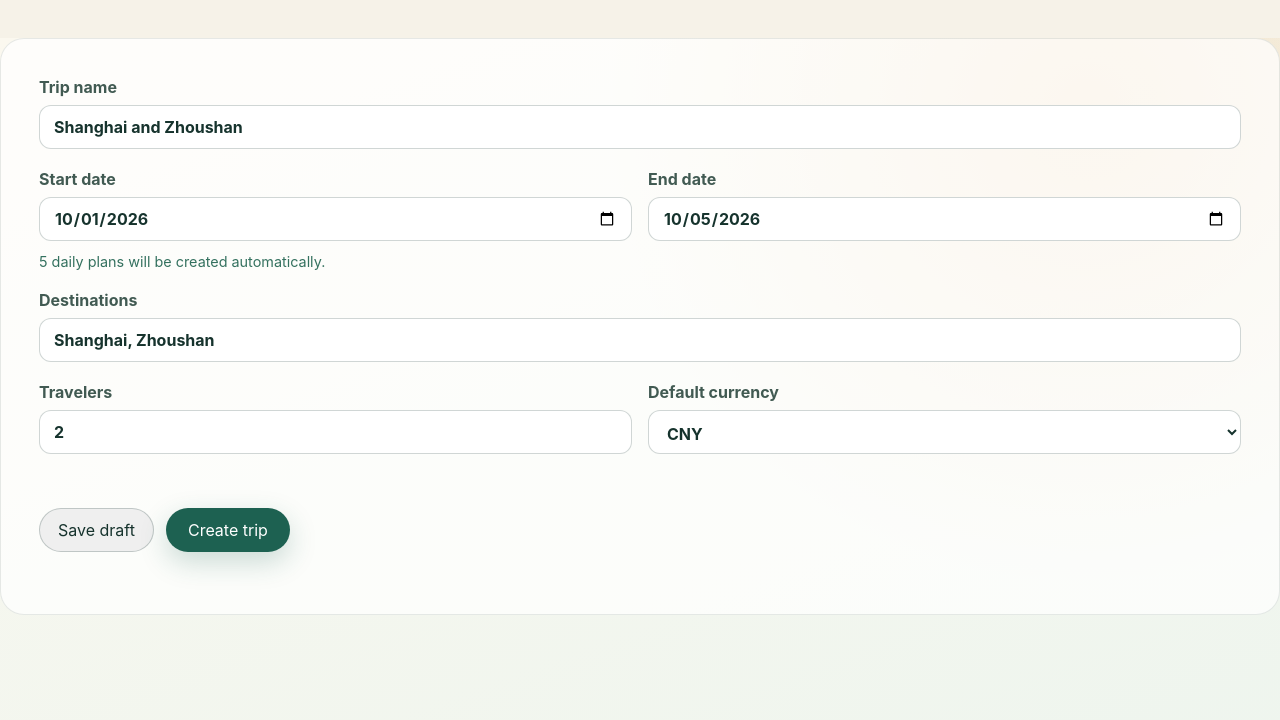
it: REVIEW-P1-04 TripCreateForm component › blocks an invalid date range and exposes API failures as an alert
Type "2026-09-30" into the date field labelled "End date" at (944, 219), box x1=648 y1=197 x2=1241 y2=241
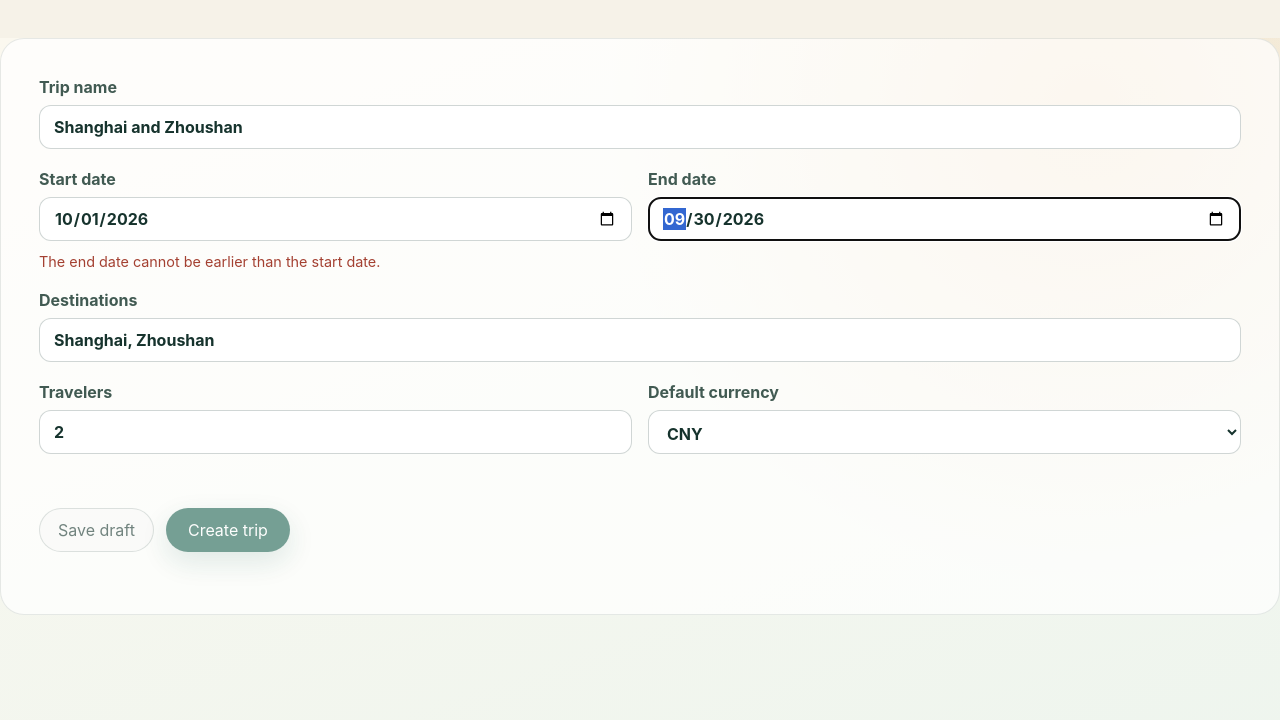
expect the text "The end date cannot be earlier than the start date." is shown: met, box x1=39 y1=253 x2=380 y2=270
expect the button "Create trip" is disabled: met, box x1=166 y1=508 x2=290 y2=552
Type "2026-10-05" into the date field labelled "End date" at (944, 219), box x1=648 y1=197 x2=1241 y2=241
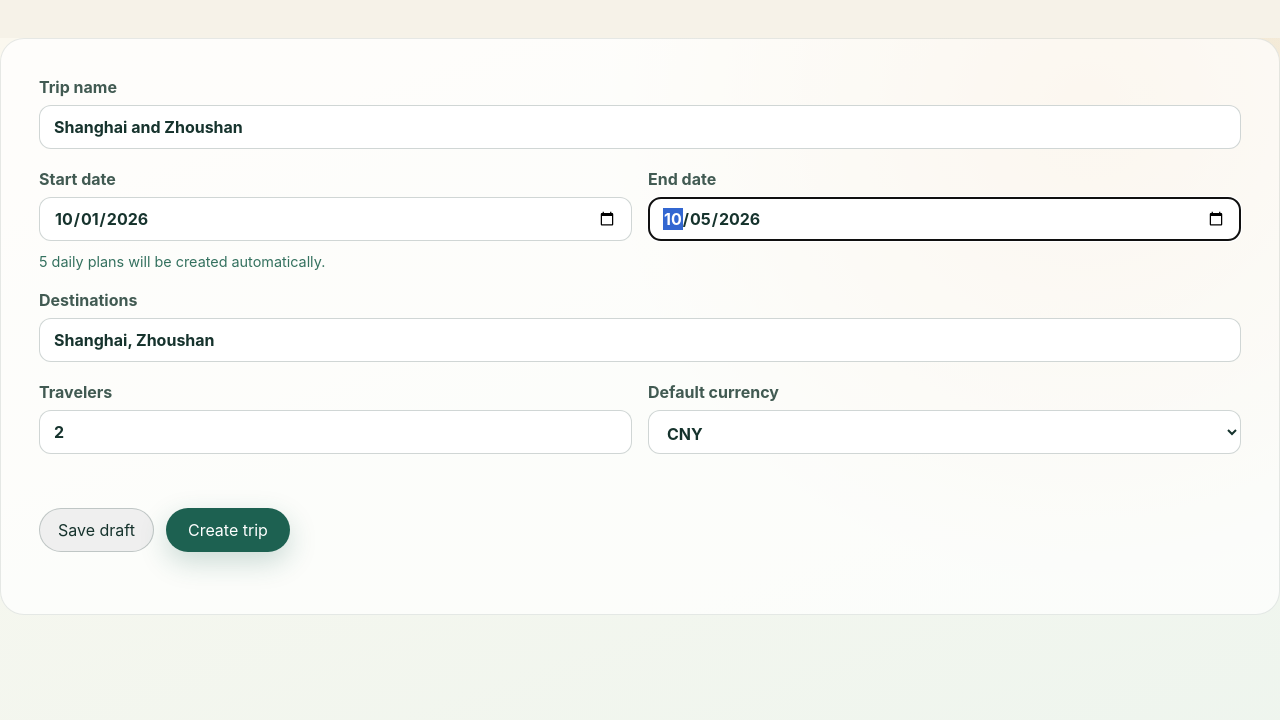
Click the button "Create trip" at (228, 530), box x1=166 y1=508 x2=290 y2=552
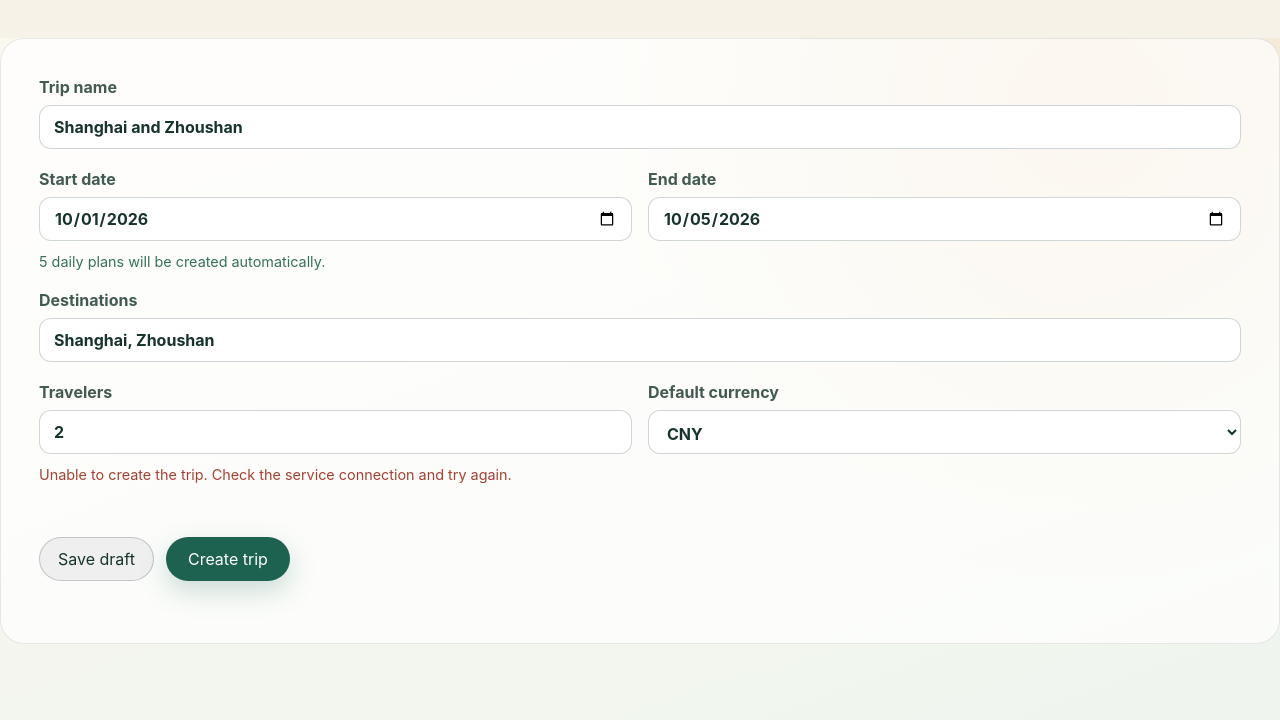
expect the message shows "Unable to create": met, box x1=39 y1=466 x2=512 y2=483
